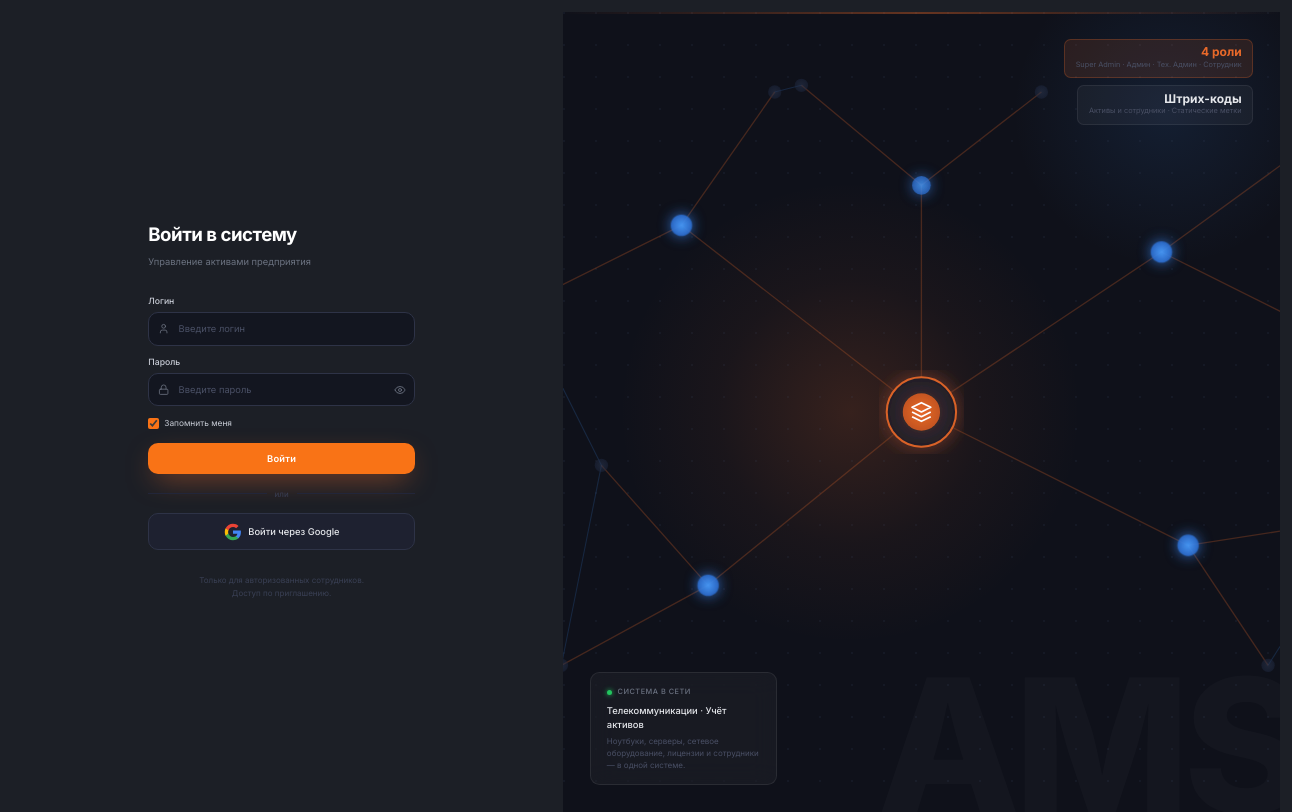
Test case: LoginPage › shows an inline error and does not sign in when fields are empty
Click the button "Войти" at {"x": 282, "y": 459}, box [148,443,415,474]
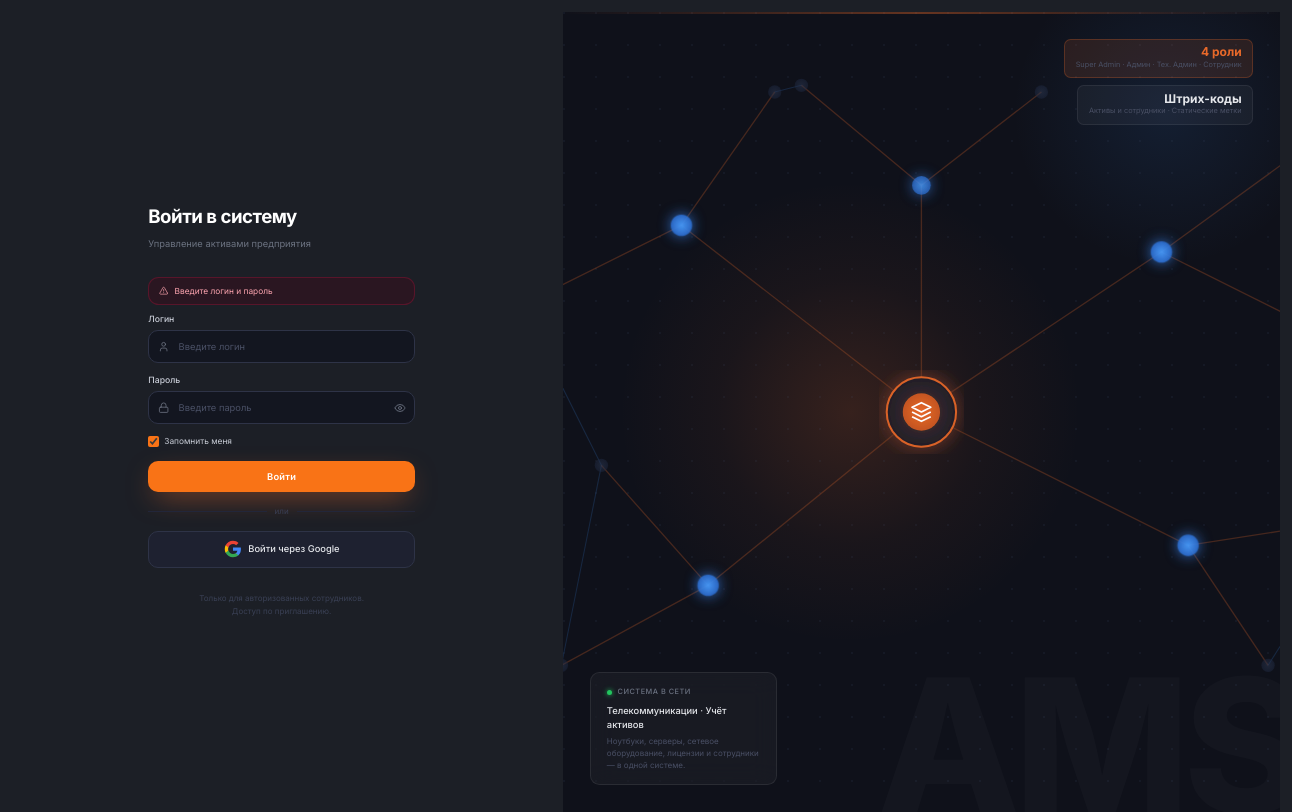
Result: the text "Введите логин и пароль" is shown at [175,285,273,298]
